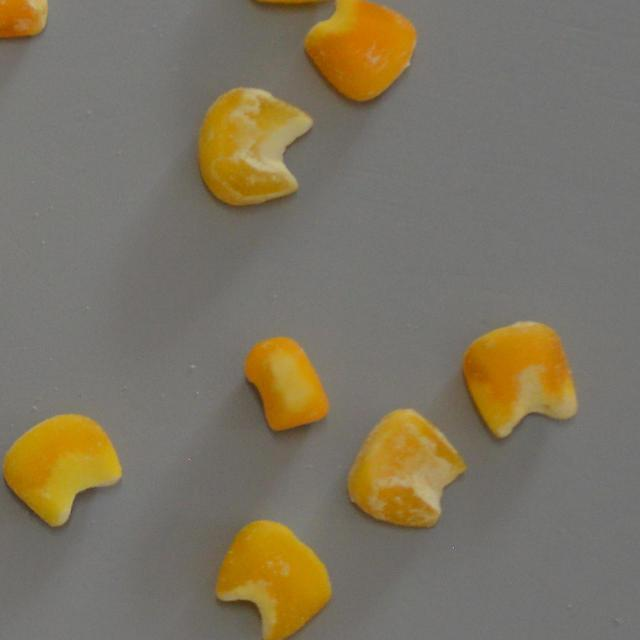no_canjicado: (1, 412, 120, 529), (245, 336, 328, 431)
pelicula: (346, 407, 466, 528), (214, 518, 333, 640), (196, 86, 313, 206), (462, 320, 576, 438), (304, 0, 418, 102), (0, 0, 47, 38)
